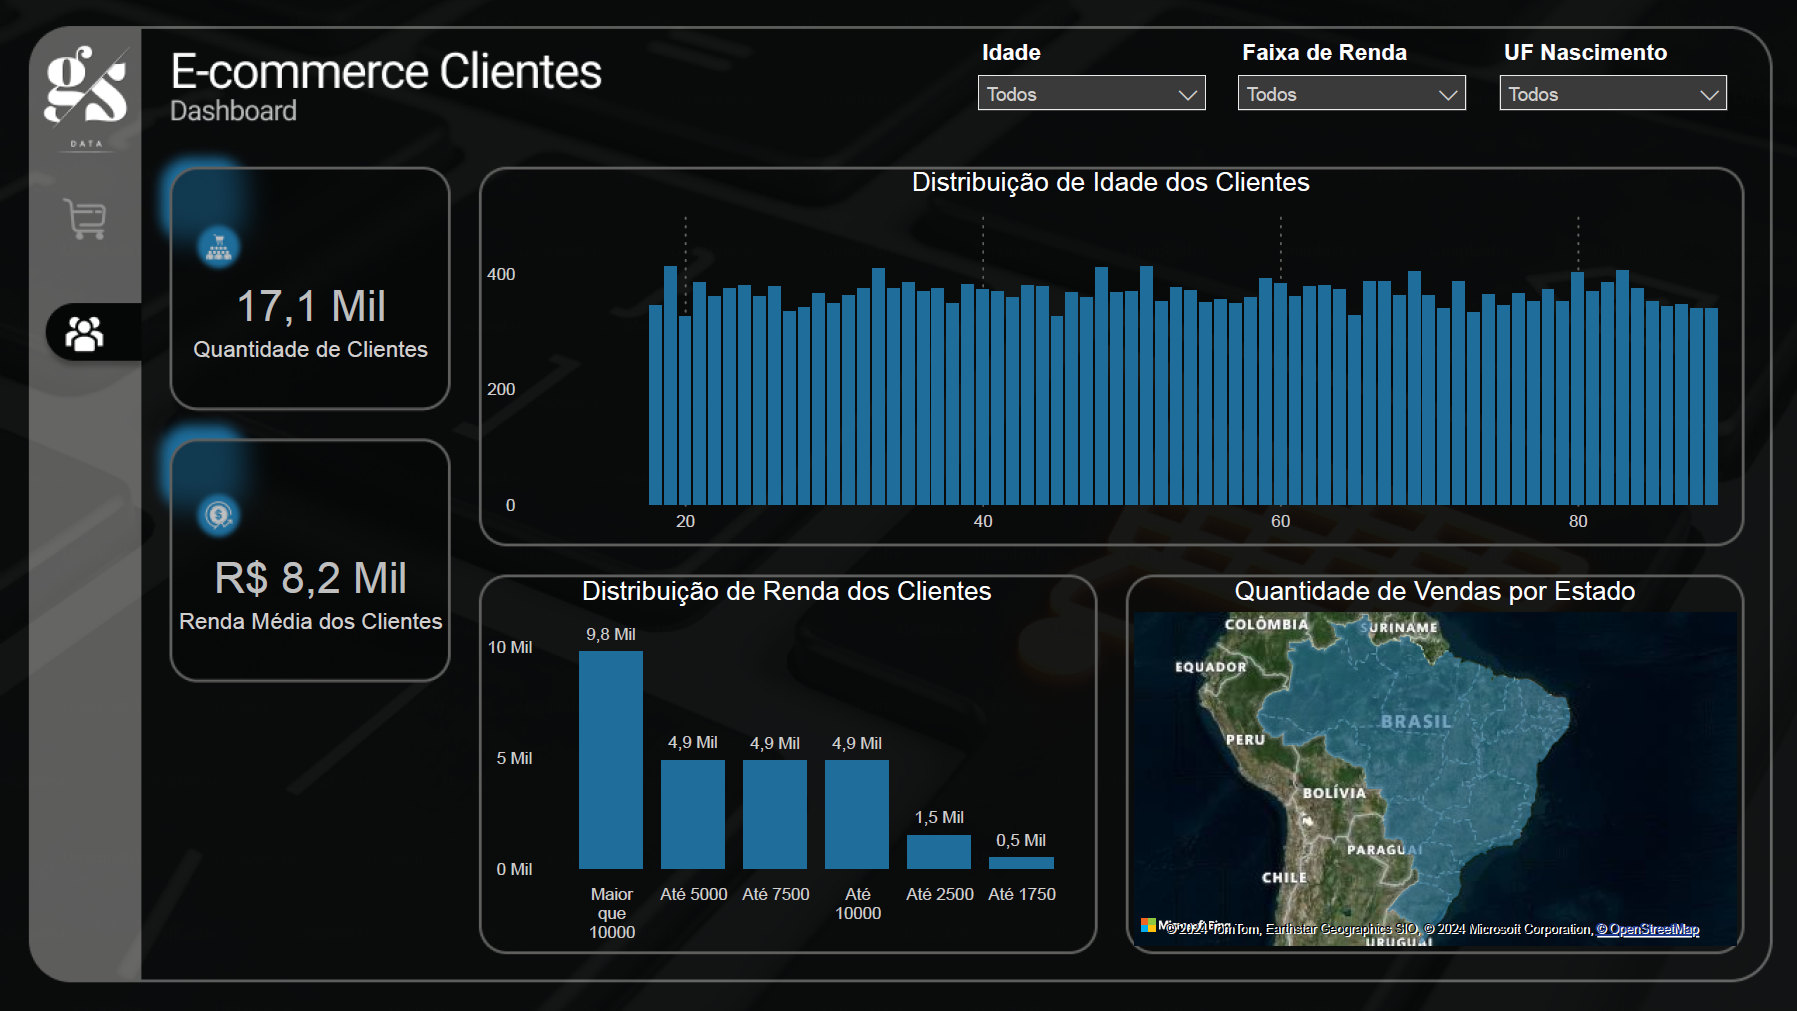

What the dashboard file says about the page in this screenshot:
{"tool":"powerbi","page":{"name":"Clientes","canvas":[1280,720],"ordinal":1},"visuals":[{"type":"card","fields":{"Values":["Count(Base cliente.cliente_Log)"]},"box":[120.6,160.5,199.1,130.3],"z":0},{"type":"card","fields":{"Values":["Avg(Base cliente.renda)"]},"box":[120.6,353.5,199.1,130.3],"z":1000},{"type":"shape","box":[32.6,133.9,67.6,41],"z":2000},{"type":"columnChart","title":"Distribuição de Renda dos Clientes","fields":{"Category":["Base cliente.Faixa de Renda"],"Y":["CountNonNull(Base cliente.cliente_Log)"]},"box":[340.2,409,437.9,267.8],"z":3000},{"type":"columnChart","title":"Distribuição de Idade dos Clientes","fields":{"Category":["Base cliente.idade"],"Y":["CountNonNull(Base cliente.cliente_Log)"]},"box":[340.2,118.2,898.8,267.8],"z":4000},{"type":"slicer","fields":{"Values":["Base cliente.Estado"]},"box":[1055.6,22.9,182.2,88.1],"z":5000},{"type":"slicer","fields":{"Values":["Base cliente.Faixa de Renda"]},"box":[870.2,22.9,182.2,88.1],"z":6000},{"type":"slicer","fields":{"Values":["Base cliente.idade"]},"box":[684.9,22.9,182.2,88.1],"z":7000},{"type":"filledMap","title":"Quantidade de Vendas por Estado","fields":{"Category":["base compra.Estado_Pais"]},"box":[801.1,409,437.9,267.8],"z":8000}]}

Visuals, with their boxes on the page's 1280x720 design canvas (x1, y1, x2, y2). These are canvas units, not pixel positions in the 1797x1011 screenshot, which may show the page scaled, cropped or inside an application window:
card - Count(Base cliente.cliente_Log): Rect(121, 160, 320, 291)
card - Avg(Base cliente.renda): Rect(121, 354, 320, 484)
shape: Rect(33, 134, 100, 175)
"Distribuição de Renda dos Clientes" columnChart: Rect(340, 409, 778, 677)
"Distribuição de Idade dos Clientes" columnChart: Rect(340, 118, 1239, 386)
slicer - Base cliente.Estado: Rect(1056, 23, 1238, 111)
slicer - Base cliente.Faixa de Renda: Rect(870, 23, 1052, 111)
slicer - Base cliente.idade: Rect(685, 23, 867, 111)
"Quantidade de Vendas por Estado" filledMap: Rect(801, 409, 1239, 677)
